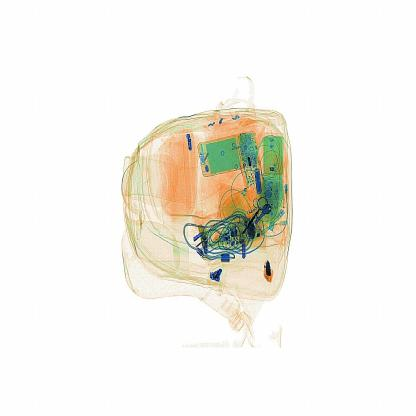wrench: (259, 255, 279, 284)
